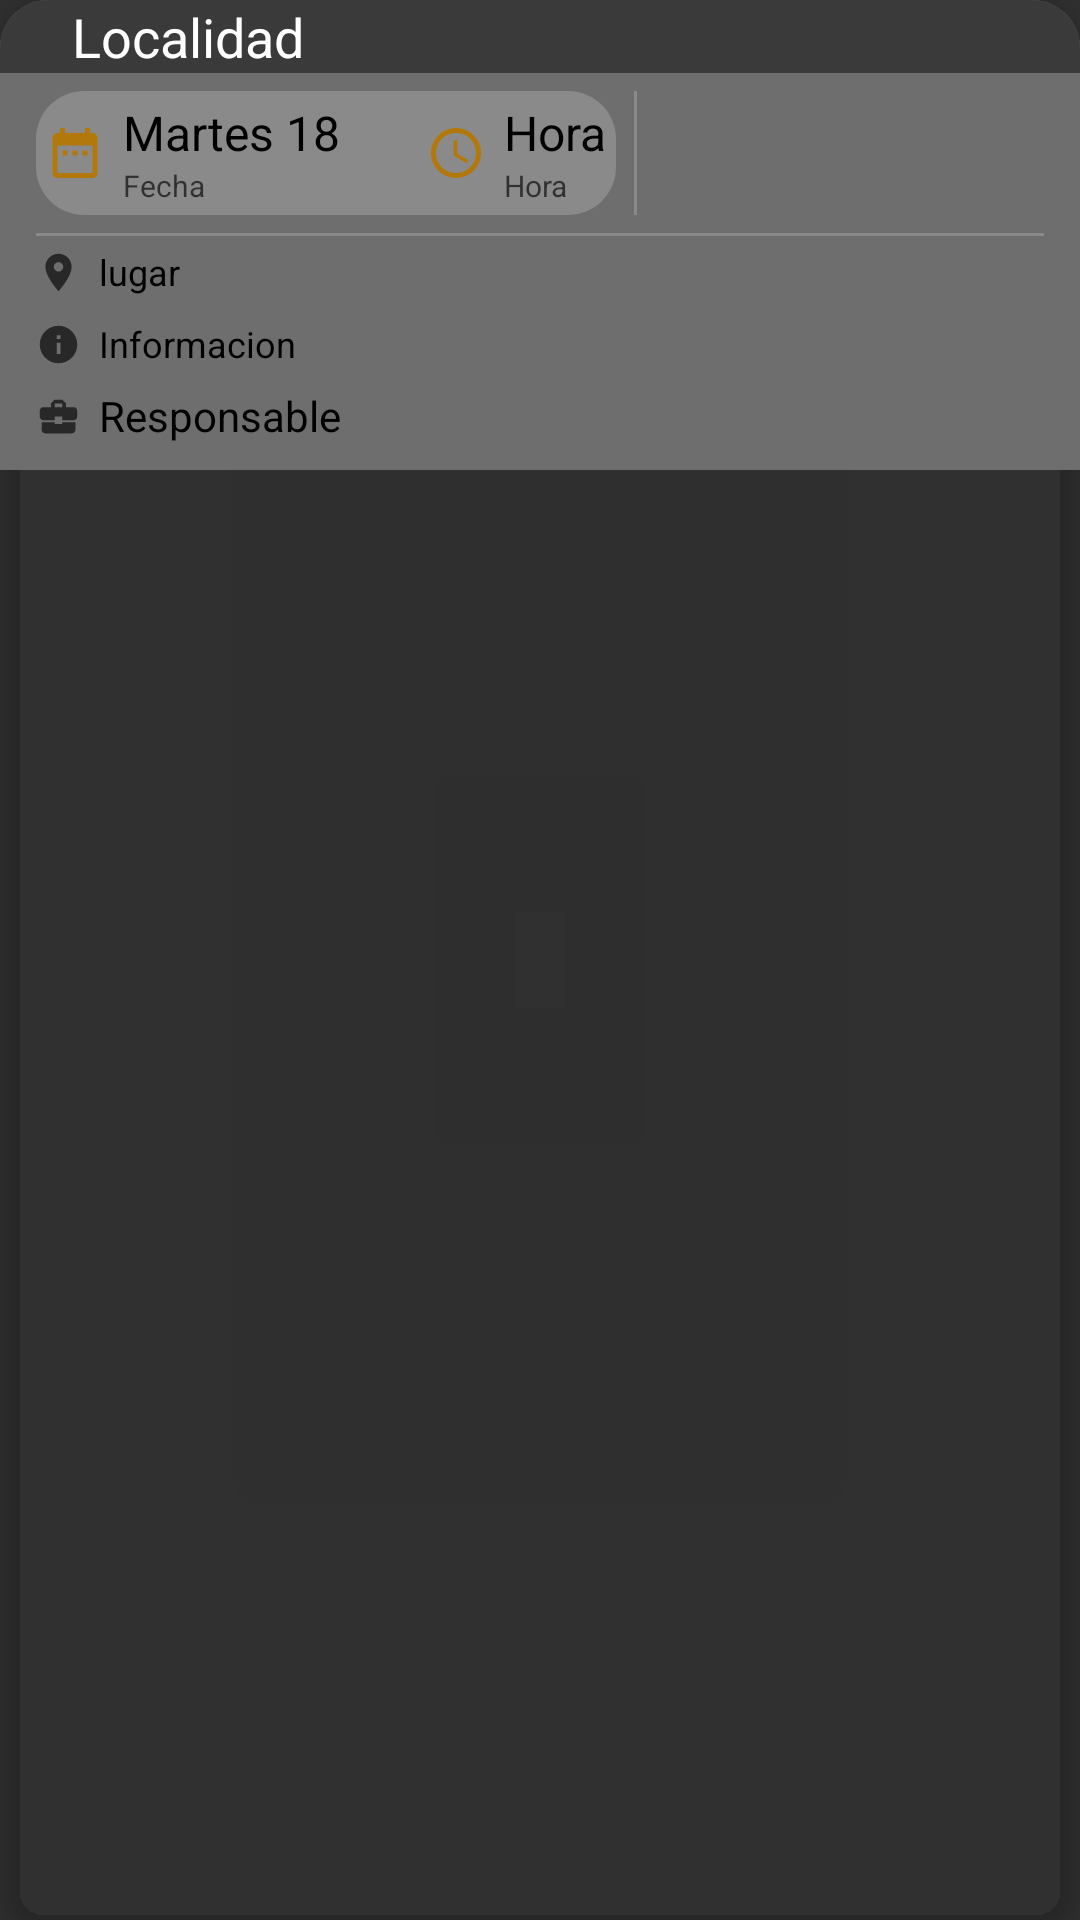

Icons on this 1080x1920 Android screen, each with the point to tap as point (x, y):
information: point (58, 344)
place: point (58, 272)
